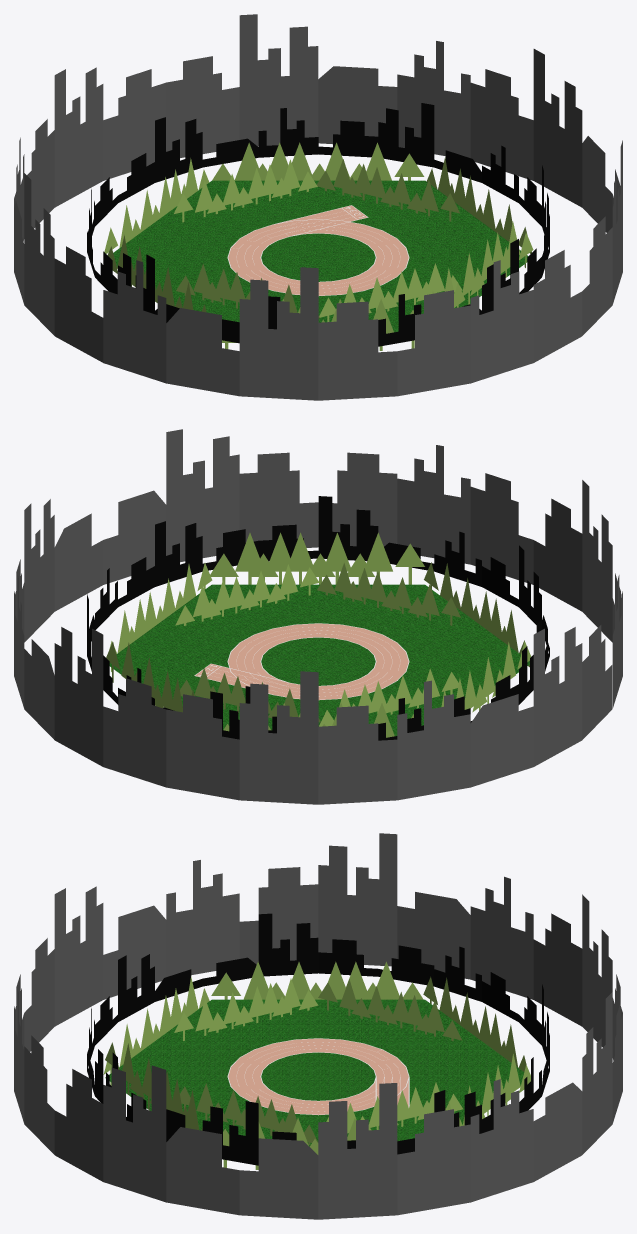
Rendered from track1.gltf.
The picture shows the model from 3 angles, top to bottom: view 1: azimuth 30°, elevation 25°; view 2: azimuth 150°, elevation 25°; view 3: azimuth 270°, elevation 25°; orthographic projection.
Visible parts, largest first — view 1: group_1, group_28, group_1.001, group_33, group_4, group_37, group_40, group_5, group_31, group_30, group_29, group_38 (+20 smaller); view 2: group_1, group_28, group_31, group_1.001, group_36, group_38, group_12, group_7, group_29, group_32, group_41, SketchUp.013 (+17 smaller); view 3: group_1, group_28, group_1.001, group_34, group_15, group_41, group_39, group_7, group_30, group_32, group_36, group_14 (+19 smaller).
Boxes of the visible parts, x1,y1,x2,y2 form: group_1: [14, 14, 622, 400]; group_28: [113, 180, 528, 332]; group_1.001: [54, 246, 103, 362]; group_33: [212, 142, 391, 180]; group_4: [378, 103, 434, 167]; group_37: [195, 159, 317, 216]; group_40: [317, 159, 438, 216]; group_5: [155, 117, 202, 182]; group_31: [444, 221, 533, 307]; group_30: [119, 158, 209, 247]; group_29: [426, 157, 512, 241]; group_38: [344, 263, 462, 313]; group_1: [14, 429, 622, 804]; group_28: [109, 584, 529, 736]; group_31: [210, 532, 392, 584]; group_1.001: [582, 625, 612, 739]; group_36: [175, 564, 298, 625]; group_38: [317, 563, 439, 620]; group_12: [318, 496, 378, 561]; group_7: [155, 521, 202, 586]; group_29: [109, 564, 196, 671]; group_32: [440, 563, 529, 667]; group_41: [319, 668, 439, 726]; SketchUp.013: [236, 627, 400, 696]; group_1: [14, 833, 622, 1219]; group_28: [105, 999, 524, 1146]; group_1.001: [239, 867, 318, 964]; group_34: [243, 961, 423, 999]; group_15: [258, 913, 318, 976]; group_41: [339, 979, 462, 1040]; group_39: [195, 978, 318, 1035]; group_7: [202, 1101, 258, 1165]; group_30: [439, 977, 526, 1071]; group_32: [119, 976, 209, 1066]; group_36: [196, 1083, 318, 1144]; group_14: [118, 954, 154, 1021].
Size of the model in its own units: 110 by 26.61 by 110.
Materials: 7 (1 with a texture image).
